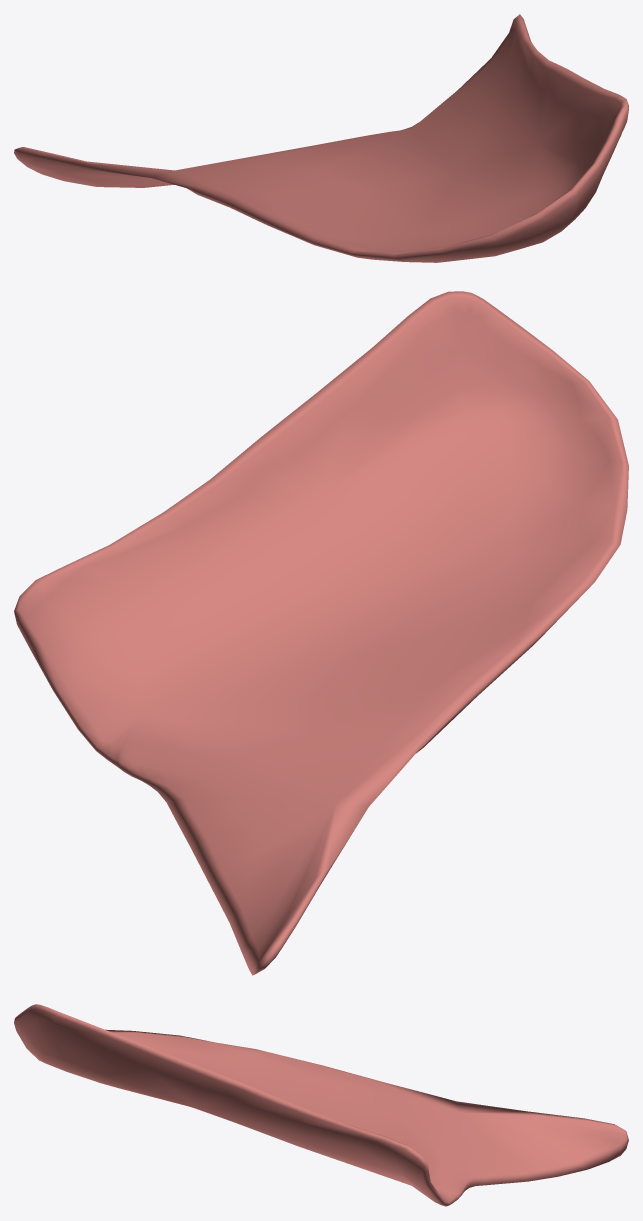
3 renders of one model, top to bottom at view 1: azimuth 30°, elevation 25°; view 2: azimuth 150°, elevation 25°; view 3: azimuth 270°, elevation 25°, orthographic. The views are drawn at different scales.
Visible parts, largest first — view 1: ZA_2adb5e92d626b7cb; view 2: ZA_2adb5e92d626b7cb; view 3: ZA_2adb5e92d626b7cb.
Boxes of the visible parts, left/top/right/bottom form: ZA_2adb5e92d626b7cb: left=14, top=14, right=628, bottom=262; ZA_2adb5e92d626b7cb: left=14, top=291, right=628, bottom=975; ZA_2adb5e92d626b7cb: left=14, top=1004, right=628, bottom=1206.
Bounding box in the file's own units: 0.0174 × 0.0135 × 0.0334.
